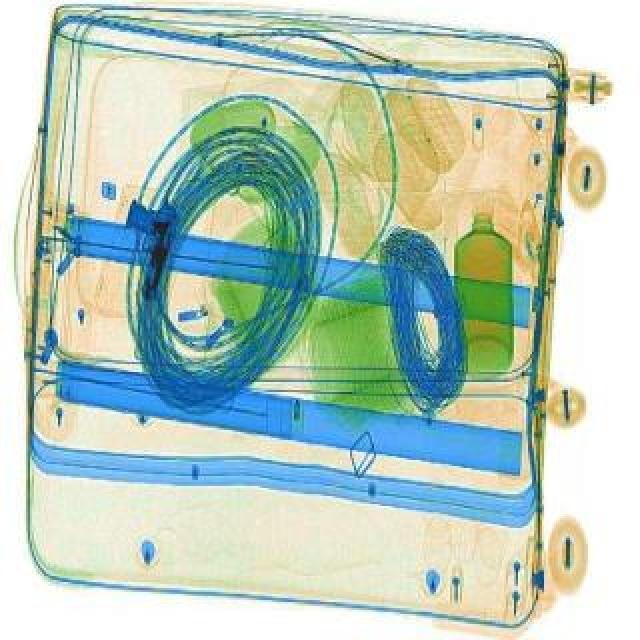gun: (114, 194, 182, 304)
